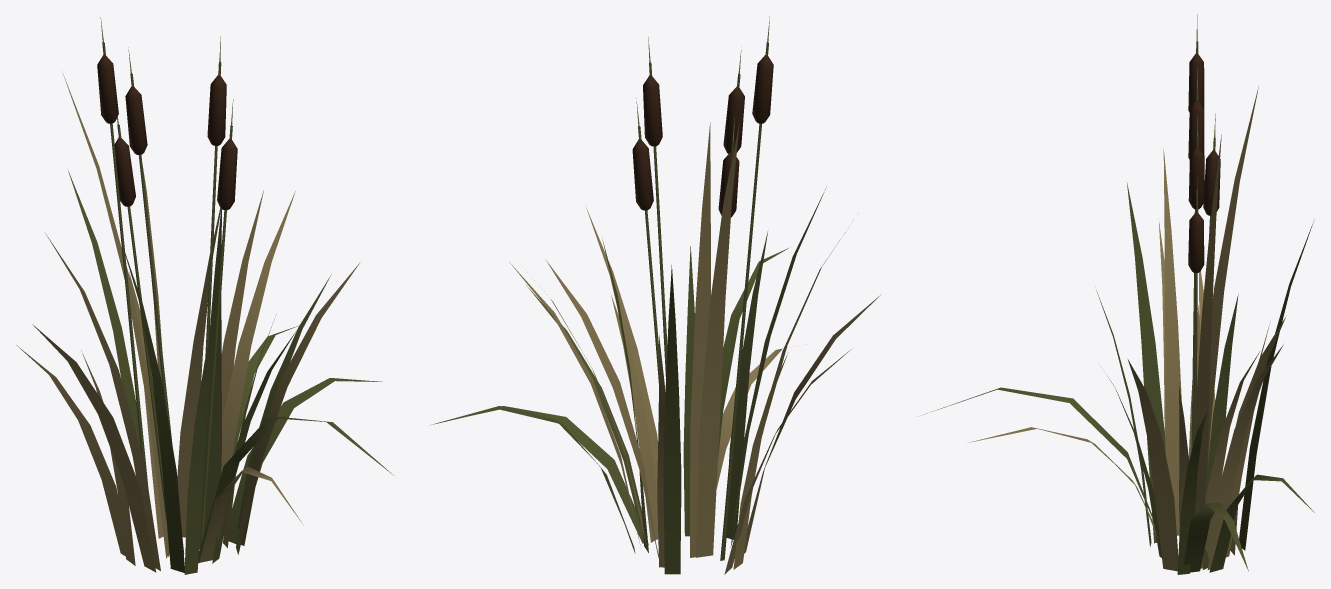
The model's file is reeds.glb.
3 renders of one model, left to right at view 1: azimuth 30°, elevation 25°; view 2: azimuth 150°, elevation 25°; view 3: azimuth 270°, elevation 25°, orthographic. The views are drawn at different scales.
Visible parts, largest first — view 1: Reeds_mesh; view 2: Reeds_mesh; view 3: Reeds_mesh.
Part boxes in pixels (bbox=[...]): Reeds_mesh: bbox=[16, 17, 393, 574]; Reeds_mesh: bbox=[430, 16, 880, 574]; Reeds_mesh: bbox=[923, 14, 1314, 574].
Size of the model in its own units: 1.15 by 1.52 by 1.11.
